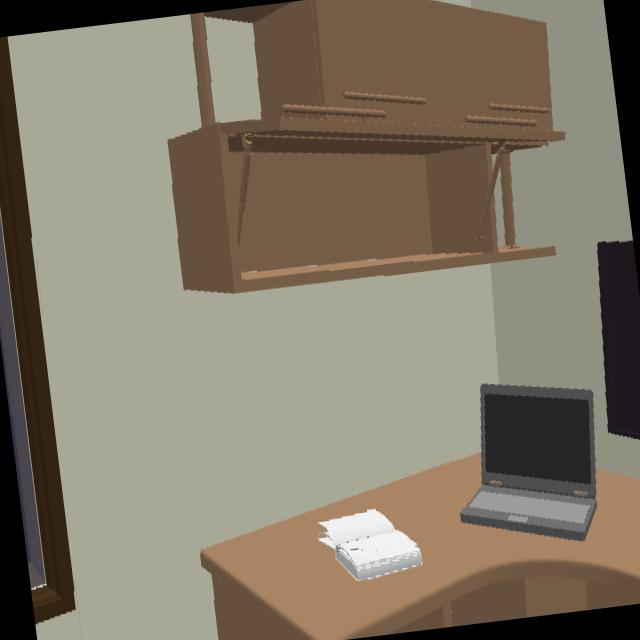book: (318, 510, 421, 580)
cabinet: (168, 0, 564, 293)
laptop: (461, 384, 596, 540)
monitor: (598, 241, 640, 438)
table: (200, 454, 640, 640)
